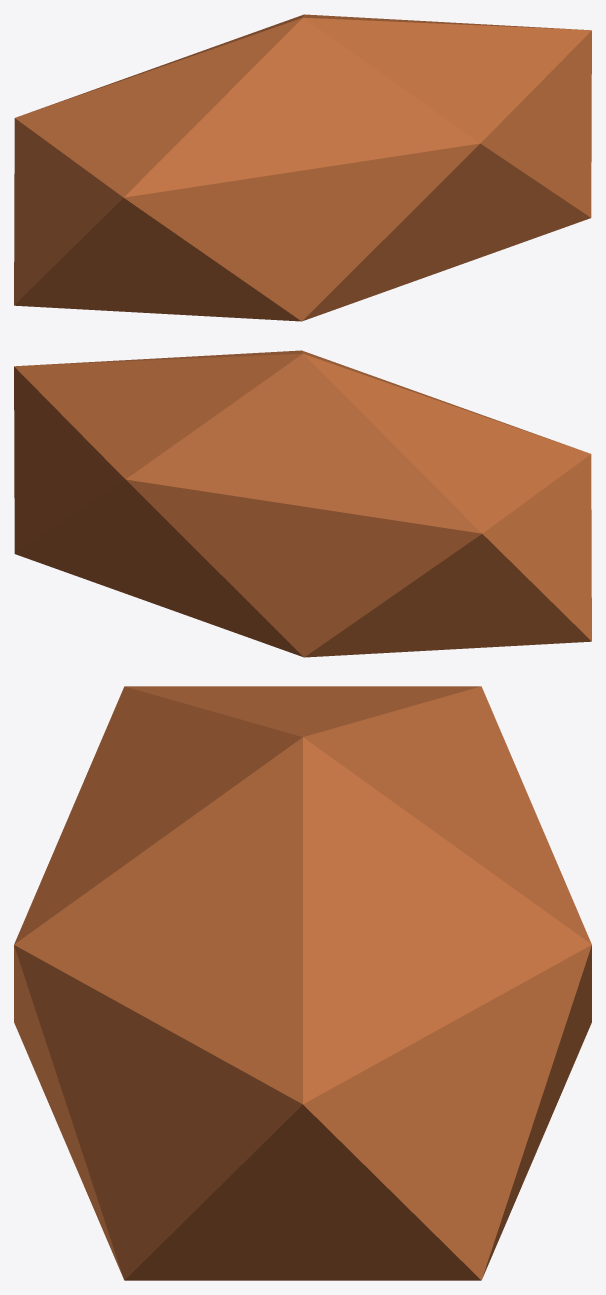
Rendered from Item_OR_Food_04.glb.
3 views of the same model, one above another, from view 1: azimuth 30°, elevation 25°; view 2: azimuth 150°, elevation 25°; view 3: azimuth 270°, elevation 25° (orthographic). The views are drawn at different scales.
Visible parts, largest first — view 1: Item_OR_Food_04; view 2: Item_OR_Food_04; view 3: Item_OR_Food_04.
Boxes of the visible parts, left/top/right/bottom form: Item_OR_Food_04: left=14, top=14, right=591, bottom=321; Item_OR_Food_04: left=14, top=350, right=591, bottom=657; Item_OR_Food_04: left=14, top=686, right=591, bottom=1280.
Bounding box in the file's own units: 0.161 × 0.08 × 0.0851.
